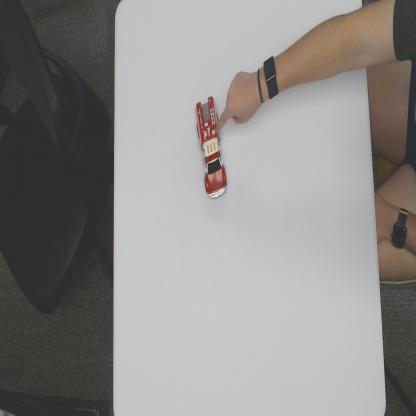Arm: (282, 3, 416, 90)
Firetruck: (192, 94, 229, 201)
Hand: (218, 64, 259, 128)
